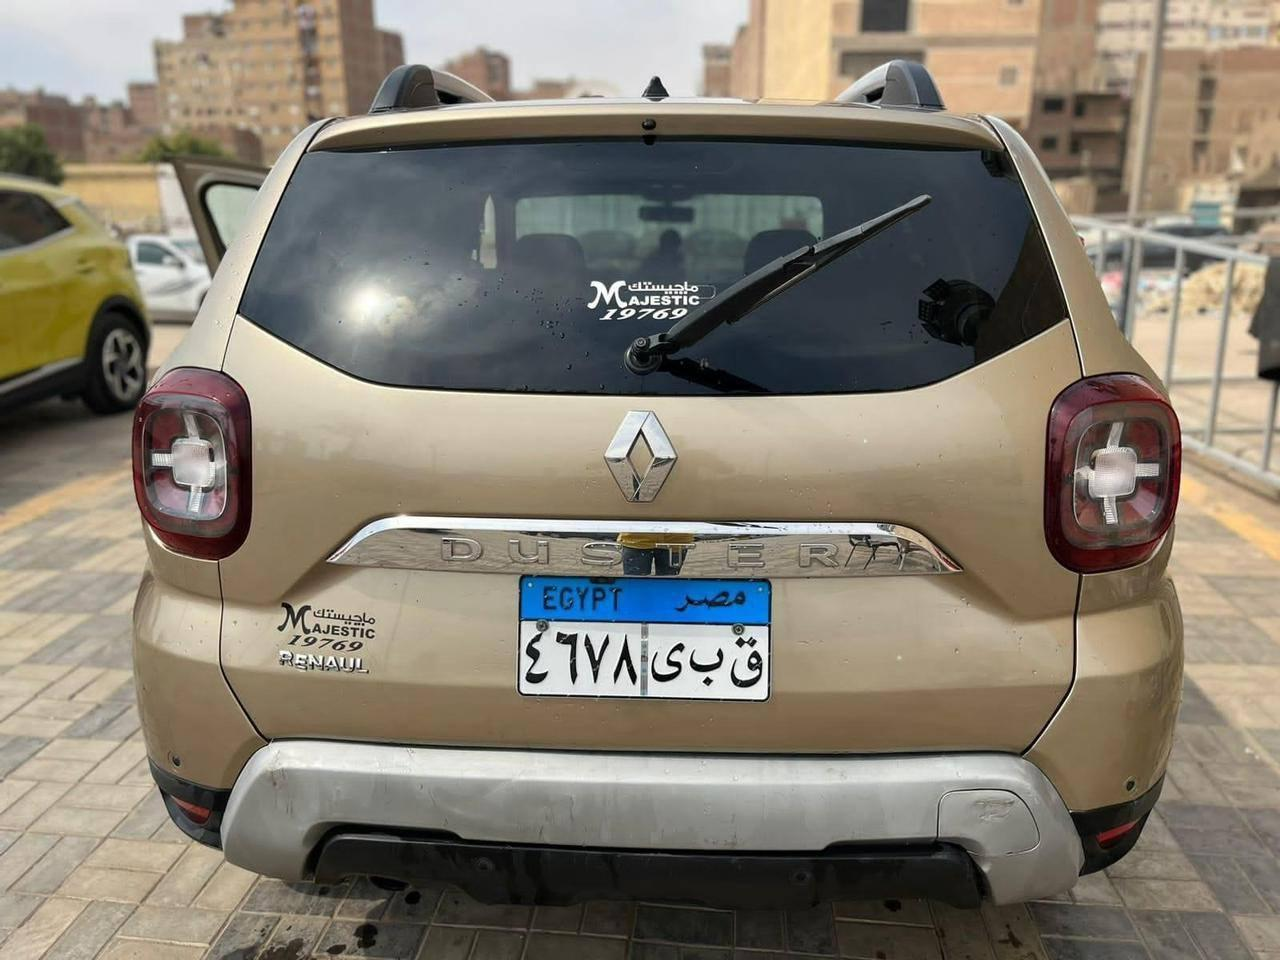4: (526, 626, 549, 684)
6: (550, 627, 584, 684)
7: (584, 633, 611, 683)
8: (608, 626, 642, 686)
License Plate: (511, 565, 770, 706)
Q: (726, 634, 770, 687)
Yeeh: (649, 644, 686, 682)
baa: (686, 643, 726, 683)
